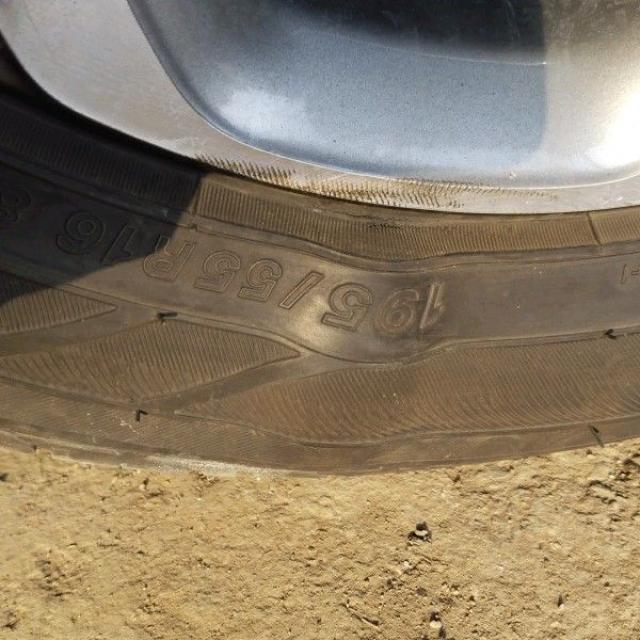Bulge: (269, 204, 442, 472)
